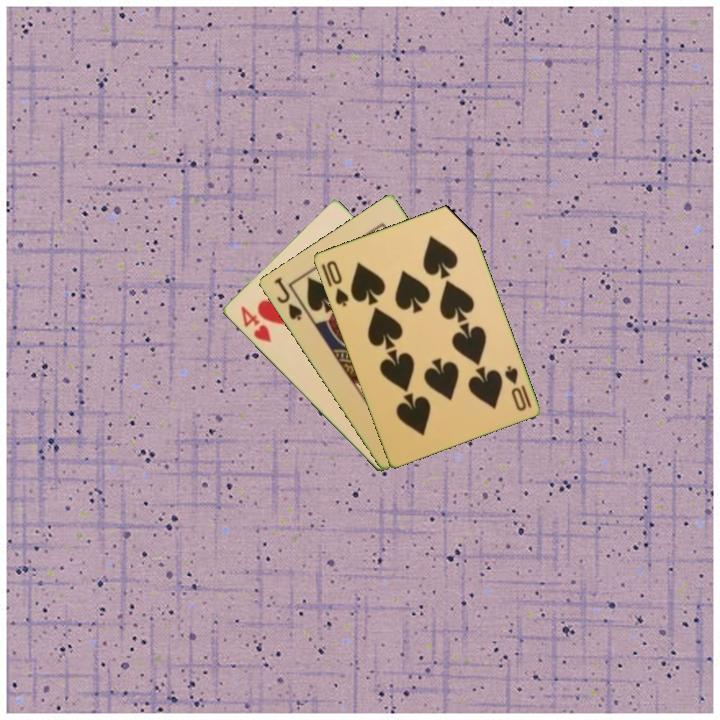10s: (501, 362, 534, 414), (323, 257, 351, 309)
4h: (237, 302, 274, 346)
Js: (270, 273, 305, 324)
